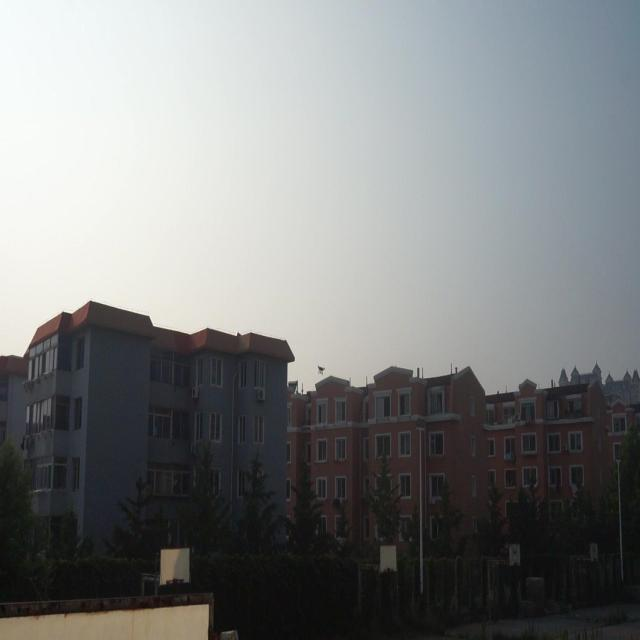drone: (317, 359, 326, 376)
